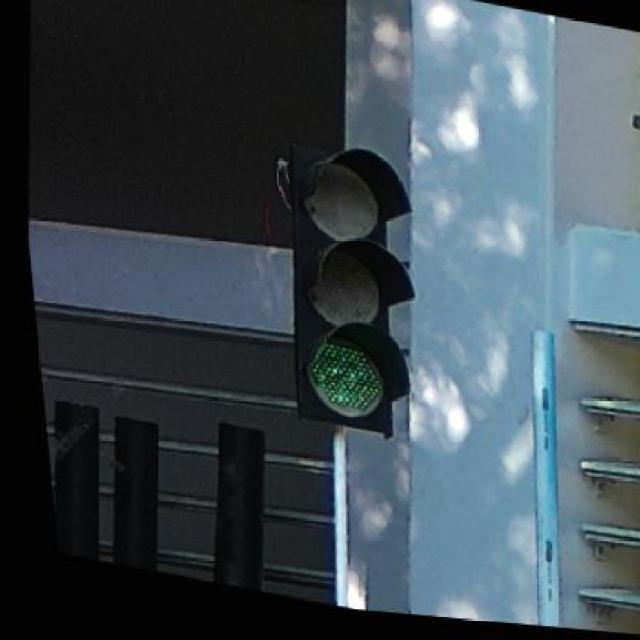green_light: (277, 144, 412, 434)
